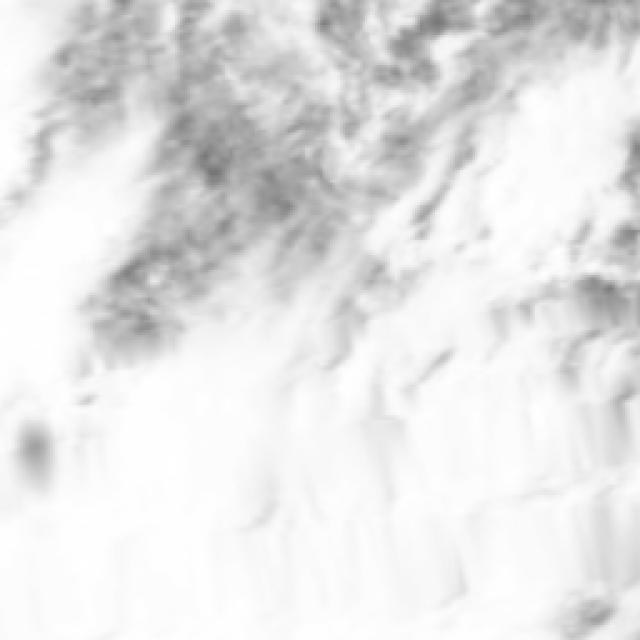CB: (157, 422, 548, 610)
